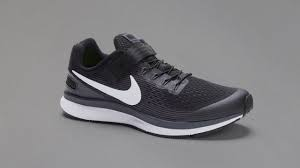nike: (73, 68, 143, 106)
